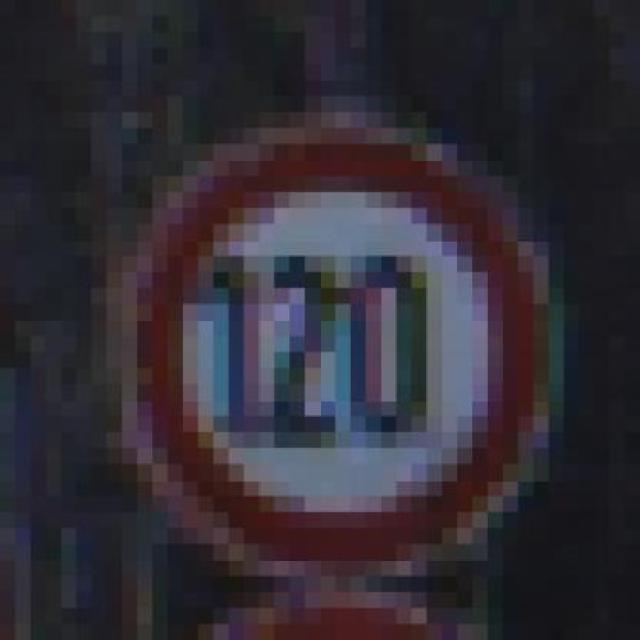forb_speed_over_120: (153, 139, 542, 567)
